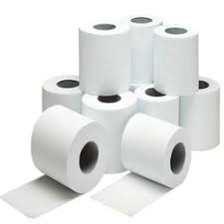tissue: (0, 100, 115, 223), (83, 108, 196, 220), (77, 85, 143, 178), (72, 15, 136, 100), (171, 72, 224, 156), (148, 19, 203, 99), (119, 11, 167, 87), (132, 80, 186, 129), (35, 70, 90, 115)
